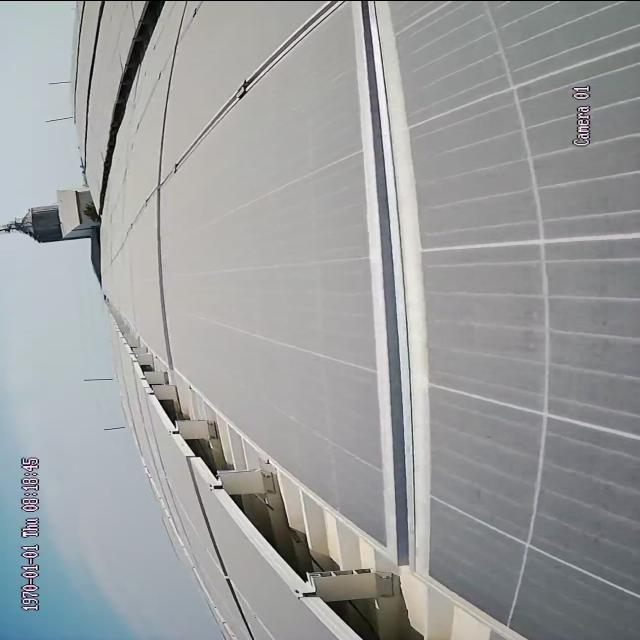interior panel: (126, 3, 333, 240), (344, 5, 431, 544)
outher panel: (116, 312, 501, 636), (102, 0, 170, 165)
